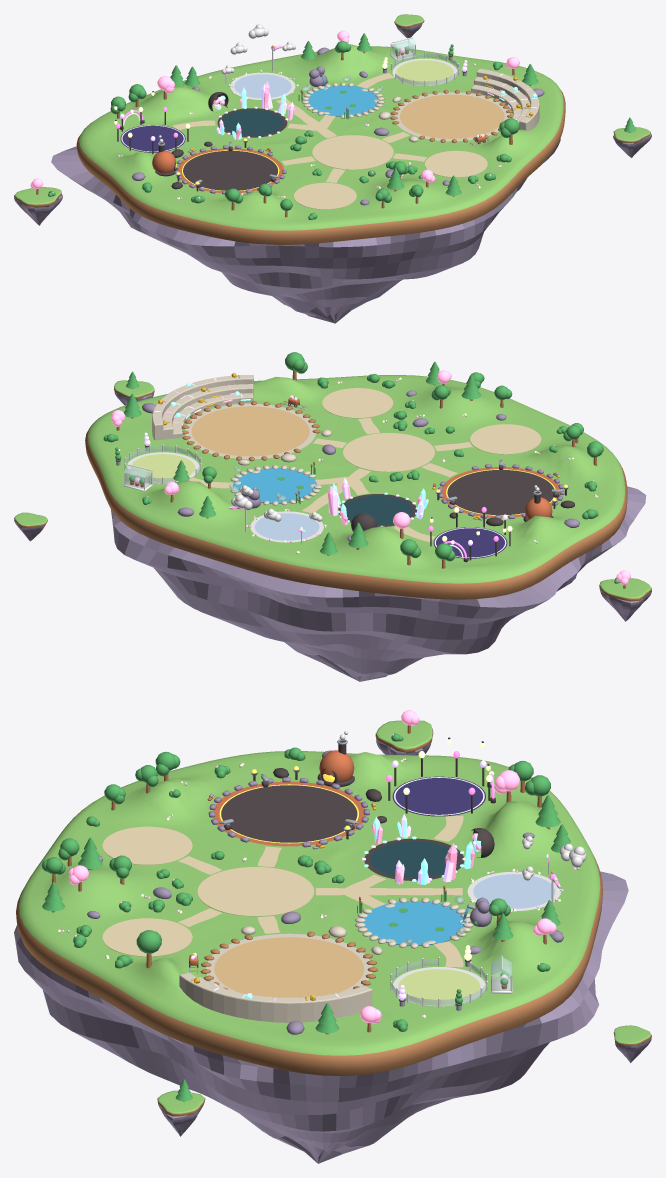
The model's file is island.glb.
3 renders of one model, top to bottom at view 1: azimuth 30°, elevation 25°; view 2: azimuth 150°, elevation 25°; view 3: azimuth 270°, elevation 25°, orthographic. The views are drawn at different scales.
Visible parts, largest first — view 1: island; view 2: island; view 3: island.
Part boxes in pixels (x1,y1,x2,y2): island: (14, 14, 651, 323); island: (14, 352, 651, 681); island: (14, 710, 651, 1163).
Bounding box in the file's own units: 54.65 × 21.68 × 38.27.
